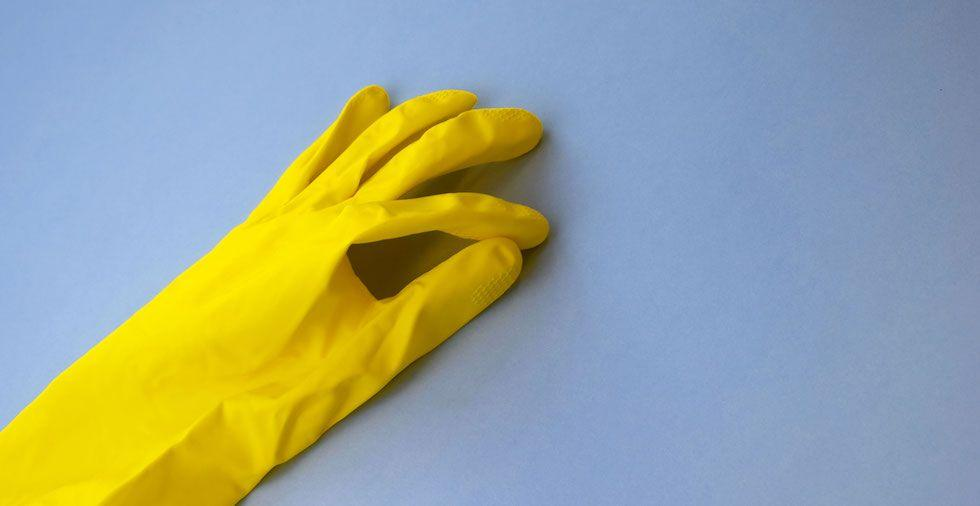gloves: (0, 80, 559, 506)
